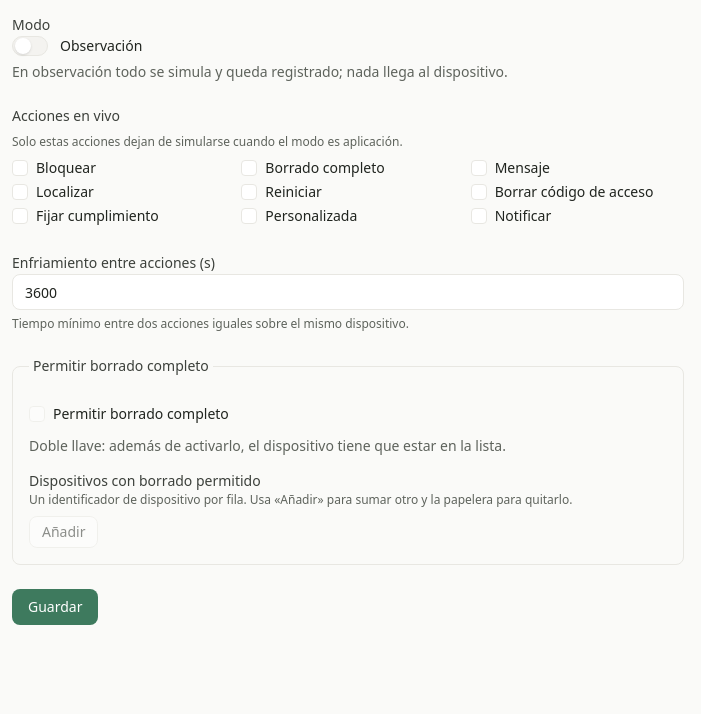
Test: pasar a enforce habilita las llaves de wipe y muestra el aviso
The width and height of the screenshot is (701, 714).
What coordinates should you click on to do the following:
click the switch
I would click on:
 (30, 46)
Its box is [12,36,48,56].
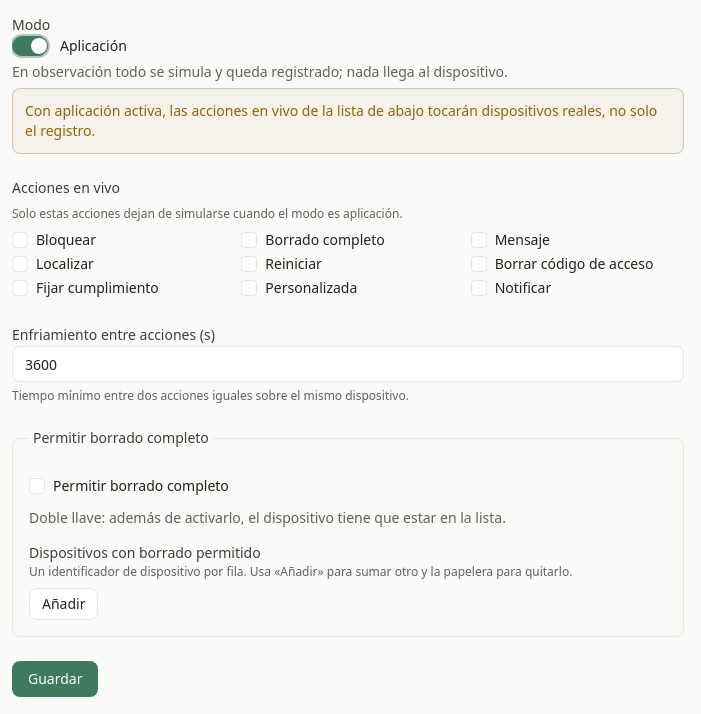
Result: the 10th checkbox named "Permitir borrado completo" is enabled at [29,478,45,494]
Result: the text "tocarán dispositivos reales" is shown at [25,101,657,140]
